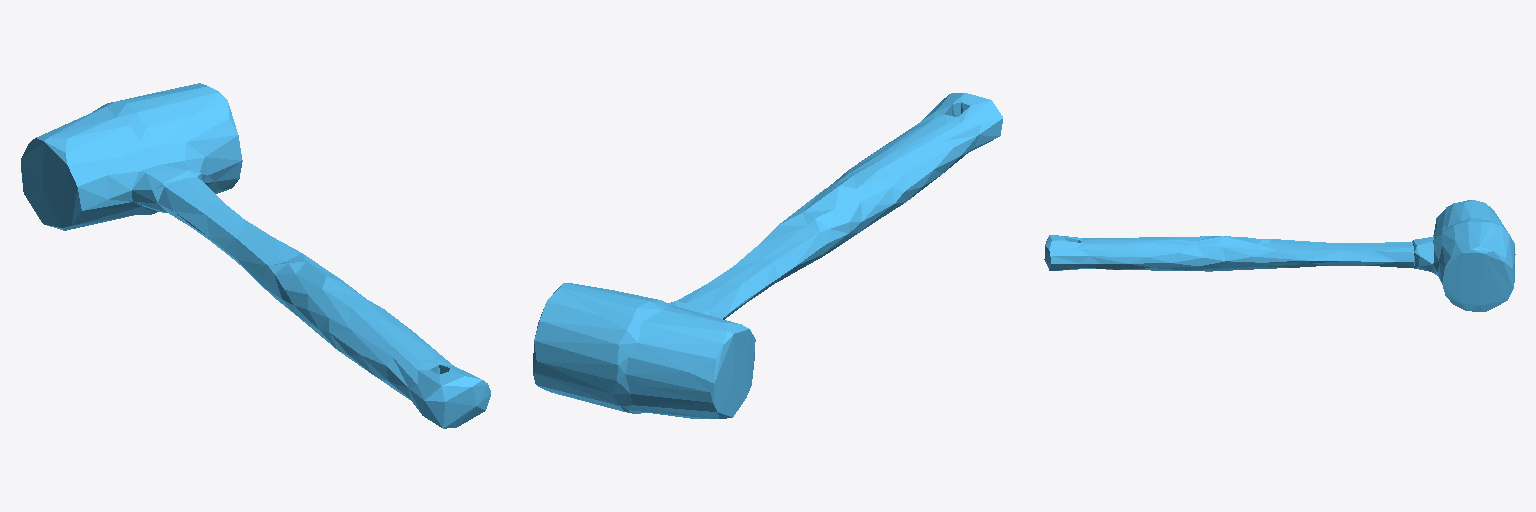
The robot description file, URDF, robot "hammer":
<?xml version="1.0" ?>
<!-- Derived from source/dexrl/dexrl/assets/mjcf/hammer.xml.
     Single free-floating rigid body; mesh paths are relative to this file. -->
<robot name="hammer">
   <material name="obj_color">
      <color rgba="1.0 0.423529411765 0.0392156862745 1.0"/>
   </material>
   <material name="obj_bottom_color">
      <color rgba="0.4 0.8 1.0 1.0"/>
   </material>
   <material name="obj_top_color">
      <color rgba="1.0 0.6 1.0 1.0"/>
   </material>
   <link name="bottom">
      <inertial>
         <origin rpy="0 0 0" xyz="0.0 0.08 0.0"/>
         <mass value="0.372"/>
         <inertia ixx="2.3e-03" ixy="0.0" ixz="0.0" iyy="2.0e-04" iyz="0.0" izz="2.4e-03"/>
      </inertial>
      <visual>
         <origin rpy="0 0 0" xyz="0 0 0"/>
         <geometry>
            <mesh filename="hammer_simplified/hammer_simplified.obj" scale="1 1 1"/>
         </geometry>
         <material name="obj_bottom_color"/>
      </visual>
      <collision>
         <origin rpy="0 0 0" xyz="0 0 0"/>
         <geometry>
            <mesh filename="hammer_simplified/decomposed/hammer_simplified_000.obj" scale="1 1 1"/>
         </geometry>
      </collision>
      <collision>
         <origin rpy="0 0 0" xyz="0 0 0"/>
         <geometry>
            <mesh filename="hammer_simplified/decomposed/hammer_simplified_001.obj" scale="1 1 1"/>
         </geometry>
      </collision>
      <collision>
         <origin rpy="0 0 0" xyz="0 0 0"/>
         <geometry>
            <mesh filename="hammer_simplified/decomposed/hammer_simplified_002.obj" scale="1 1 1"/>
         </geometry>
      </collision>
   </link>
</robot>

--- Render facts (derived) ---
Views: 3 orthographic renders of the robot side by side, from view 1: azimuth 30°, elevation 25°; view 2: azimuth 150°, elevation 25°; view 3: azimuth 270°, elevation 25°.
Robot: hammer — 1 links, 0 joints (none); root link bottom; default pose: every joint at zero.
Links seen in each view (by area): view 1: bottom; view 2: bottom; view 3: bottom.
Link boxes in pixels (bbox=[...]): bottom: bbox=[21, 83, 490, 428]; bottom: bbox=[533, 93, 1002, 418]; bottom: bbox=[1044, 200, 1515, 311].
Bounding box of the posed robot: 0.0798 × 0.2851 × 0.0441 m (x, y, z).
1 mesh visuals loaded from 1 distinct referenced files (1 OBJ).
